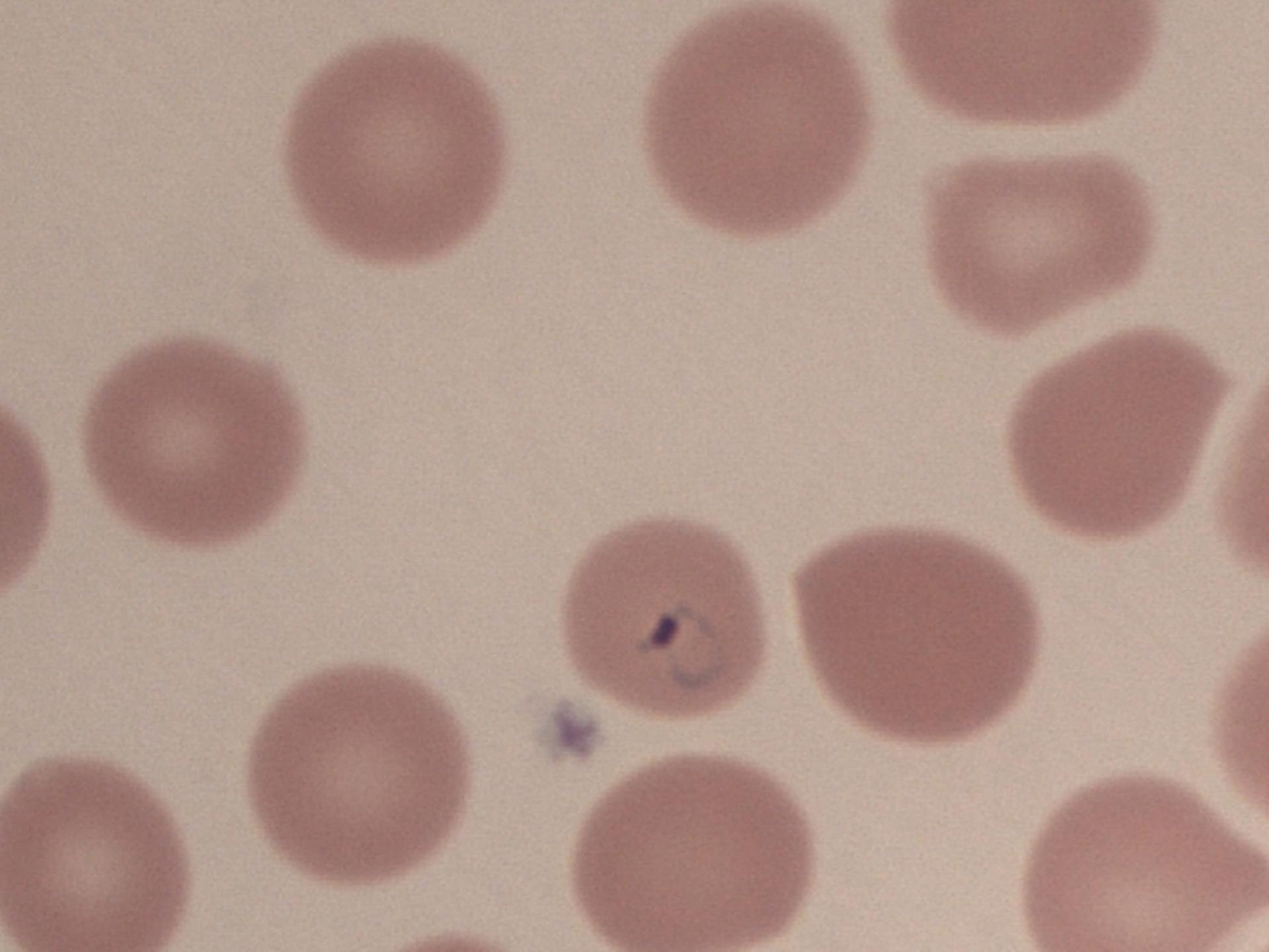Infected: (557, 514, 765, 722)
Uninfected: (791, 527, 1040, 743), (288, 42, 503, 263), (253, 666, 469, 885), (644, 20, 863, 235), (1012, 330, 1235, 541), (84, 337, 309, 544), (575, 752, 811, 947), (1024, 773, 1269, 952), (929, 151, 1155, 333), (0, 758, 187, 952), (886, 0, 1153, 121)
